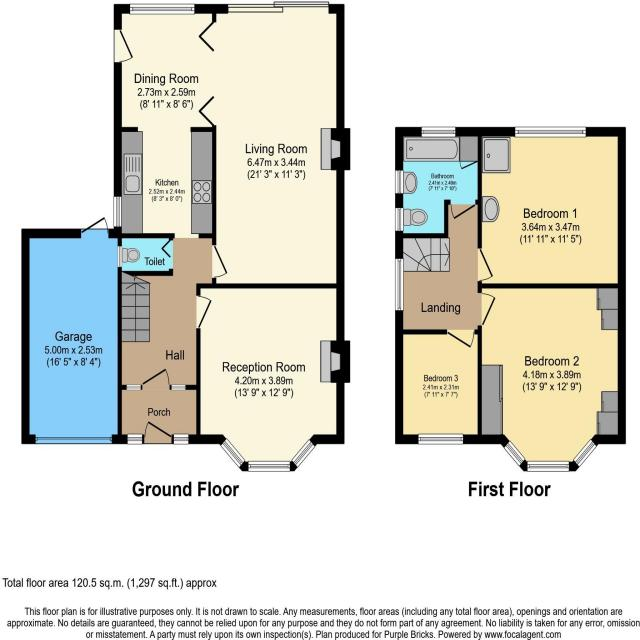DOOR: (114, 28, 134, 63), (478, 292, 496, 327), (196, 293, 213, 329), (445, 329, 476, 348), (477, 248, 494, 282), (212, 244, 228, 280), (141, 367, 171, 386), (450, 199, 476, 219)
ROOM: (196, 283, 351, 472), (477, 126, 626, 289), (395, 325, 482, 445)
SLIDING DOOR: (114, 0, 352, 391), (226, 0, 330, 16)
WINDOW: (128, 2, 195, 15), (514, 126, 586, 138), (289, 438, 316, 469), (219, 438, 246, 468), (572, 438, 597, 469), (503, 439, 526, 466), (417, 433, 464, 445), (246, 460, 290, 472), (526, 460, 570, 472), (395, 256, 404, 311), (420, 126, 456, 138), (113, 195, 123, 228), (395, 206, 404, 232), (125, 433, 144, 445), (171, 433, 189, 445), (395, 170, 404, 194), (117, 244, 123, 268)
